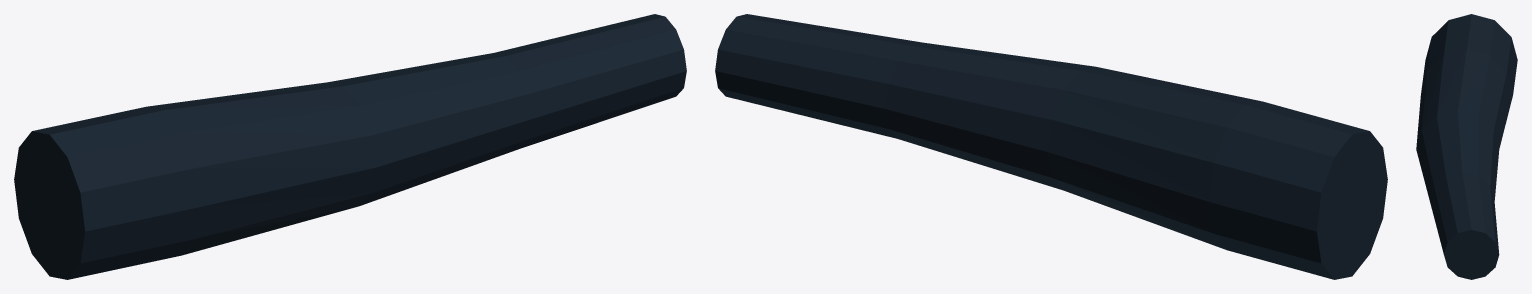
Rendered from SM_RowerLeg.obj.
3 views of the same model, side by side, from view 1: azimuth 30°, elevation 25°; view 2: azimuth 150°, elevation 25°; view 3: azimuth 270°, elevation 25° (orthographic). The views are drawn at different scales.
Visible parts, largest first — view 1: SM_RowerLeg; view 2: SM_RowerLeg; view 3: SM_RowerLeg.
Part boxes in pixels (bbox=[...]): SM_RowerLeg: bbox=[14, 14, 686, 279]; SM_RowerLeg: bbox=[715, 14, 1387, 279]; SM_RowerLeg: bbox=[1416, 14, 1517, 279].
Size of the model in its own units: 100 by 22 by 22.
